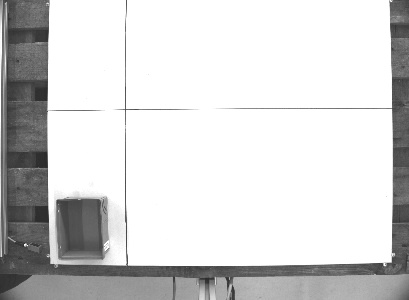klts: (53, 194, 111, 263)
